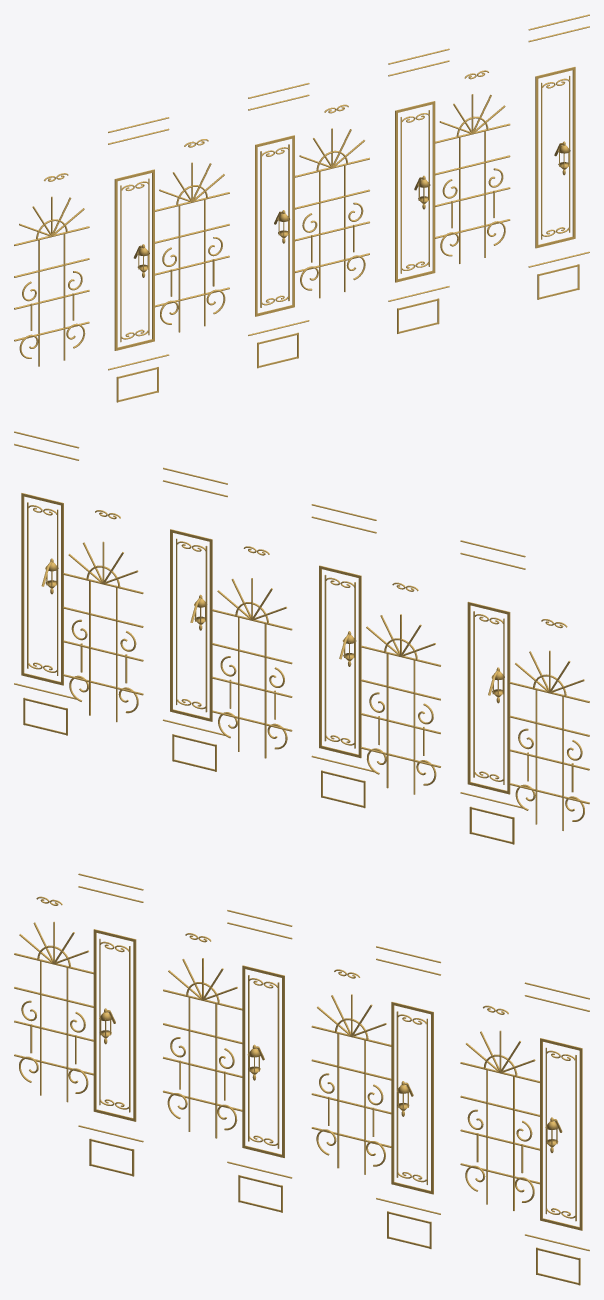
Rendered from KRM_STATIC_021.fbx.
3 renders of one model, top to bottom at view 1: azimuth 30°, elevation 25°; view 2: azimuth 150°, elevation 25°; view 3: azimuth 330°, elevation 25°, orthographic. The views are drawn at different scales.
Parts seen in each view (by area): view 1: KRM_STATIC_021; view 2: KRM_STATIC_021; view 3: KRM_STATIC_021.
Part boxes in pixels (bbox=[...]): KRM_STATIC_021: bbox=[14, 14, 589, 402]; KRM_STATIC_021: bbox=[14, 431, 589, 844]; KRM_STATIC_021: bbox=[14, 873, 589, 1285].
Bounding box in the file's own units: 1195 × 559 × 93.8.
Materials: 1 (1 with a texture image).
